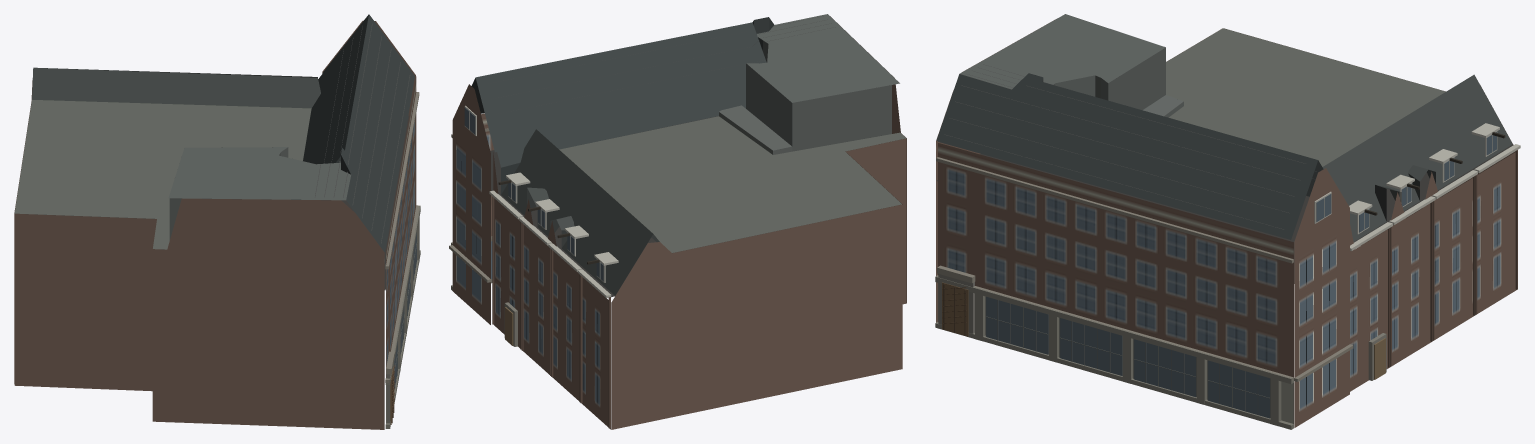
3 renders of one model, left to right at view 1: azimuth 30°, elevation 25°; view 2: azimuth 150°, elevation 25°; view 3: azimuth 270°, elevation 25°, orthographic. The views are drawn at different scales.
Parts seen in each view (by area): view 1: 0363100012176271; view 2: 0363100012176271; view 3: 0363100012176271.
Boxes of the visible parts, box(x1,y1,x2,y2) form: 0363100012176271: box(14, 14, 420, 429); 0363100012176271: box(449, 14, 906, 429); 0363100012176271: box(935, 14, 1520, 429).
Size of the model in its own units: 34.81 by 18.38 by 38.62.
2 materials, 1 textured.
